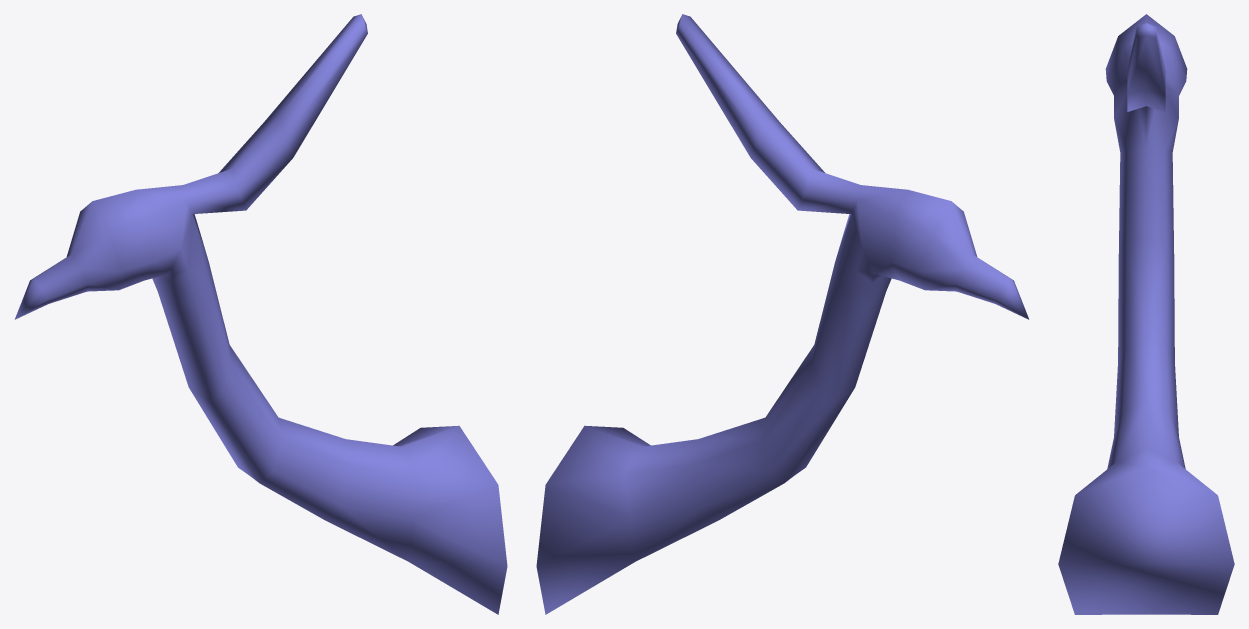
File: Simorgh_Part_1.fbx
3 renders of one model, left to right at view 1: azimuth 30°, elevation 25°; view 2: azimuth 150°, elevation 25°; view 3: azimuth 270°, elevation 25°, orthographic. The views are drawn at different scales.
Parts seen in each view (by area): view 1: Simorgh_Part_009; view 2: Simorgh_Part_009; view 3: Simorgh_Part_009.
Part boxes in pixels (x1,y1,x2,y2): Simorgh_Part_009: [14, 14, 507, 614]; Simorgh_Part_009: [536, 14, 1029, 614]; Simorgh_Part_009: [1058, 14, 1234, 614].
Bounding box in the file's own units: 61.99 × 79.39 × 23.17.
